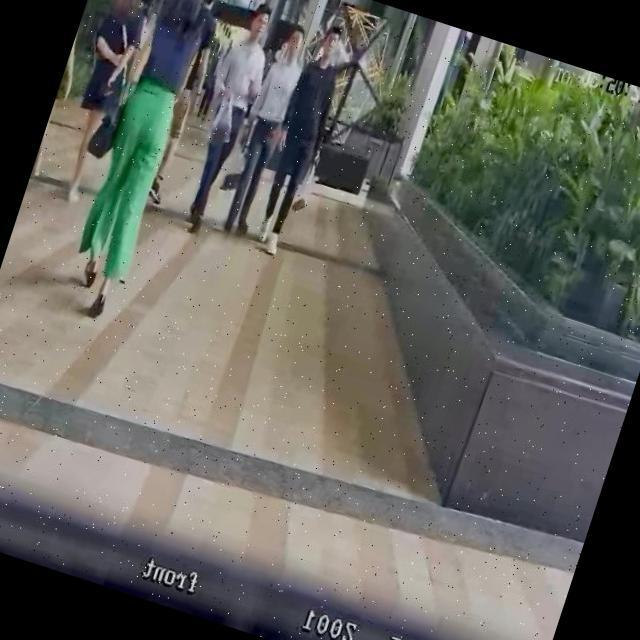person: (53, 0, 227, 324), (167, 0, 288, 237), (242, 23, 356, 258), (43, 0, 161, 210), (211, 19, 315, 240), (135, 0, 234, 210), (25, 0, 104, 196), (192, 32, 234, 122)
